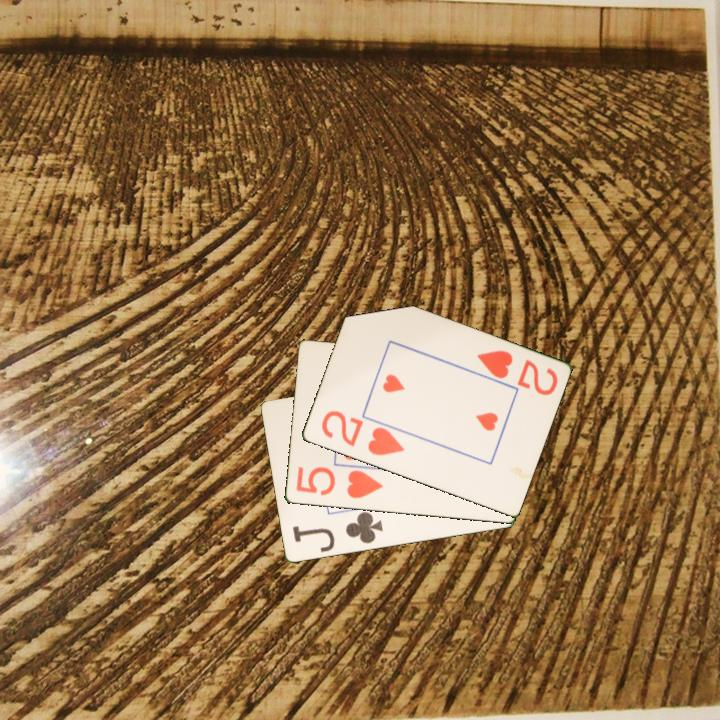2h: (317, 407, 407, 459), (473, 347, 560, 399)
5h: (292, 463, 386, 501)
Jc: (289, 508, 385, 555)
